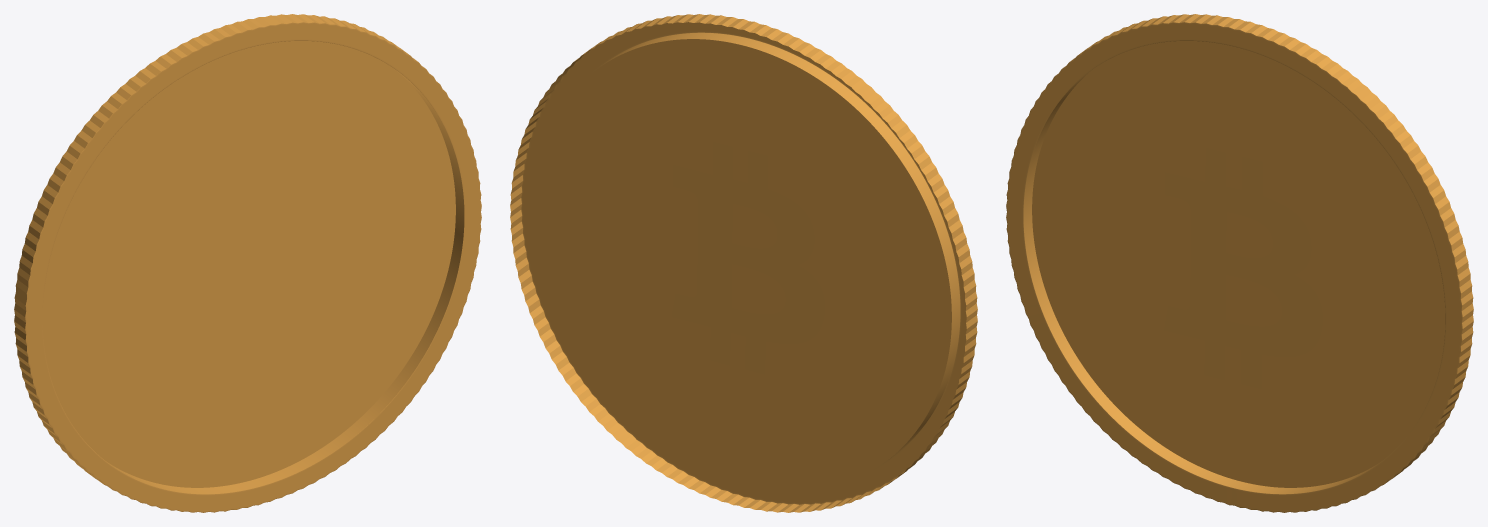
The model's file is finalblendcoin.glb.
3 renders of one model, left to right at view 1: azimuth 30°, elevation 25°; view 2: azimuth 150°, elevation 25°; view 3: azimuth 330°, elevation 25°, orthographic.
Visible parts, largest first — view 1: Cylinder, Curve.001; view 2: Cylinder, Curve.003; view 3: Cylinder, Curve.001.
Part boxes in pixels (box(x1,y1,x2,y2)): Cylinder: box(14, 14, 481, 512); Curve.001: box(181, 148, 340, 389); Cylinder: box(510, 14, 977, 512); Curve.003: box(672, 142, 824, 374); Cylinder: box(1006, 14, 1473, 512); Curve.001: box(1164, 148, 1322, 388).
Bounding box in the file's own units: 2 × 2 × 0.0841.
